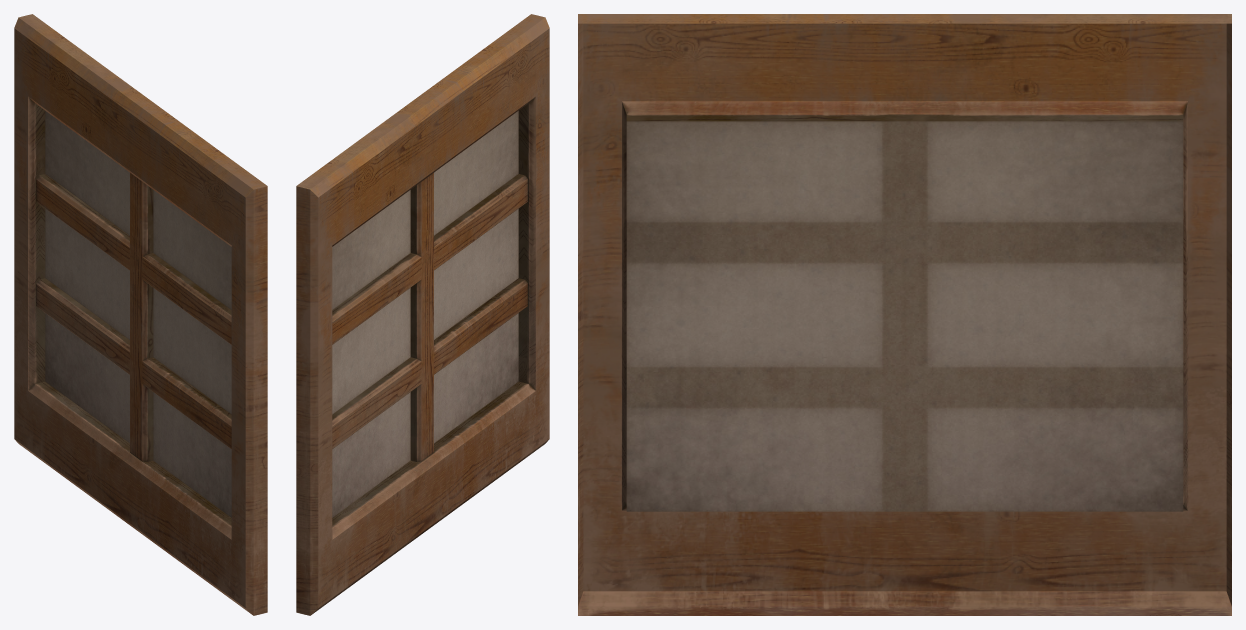
File: SM_Window2.glb
The picture shows the model from 3 angles, left to right: view 1: azimuth 30°, elevation 25°; view 2: azimuth 150°, elevation 25°; view 3: azimuth 270°, elevation 25°; orthographic projection. The views are drawn at different scales.
Parts seen in each view (by area): view 1: SM_Window2; view 2: SM_Window2; view 3: SM_Window2.
Boxes of the visible parts, x1,y1,x2,y2 form: SM_Window2: (14, 14, 267, 615); SM_Window2: (296, 14, 549, 615); SM_Window2: (578, 14, 1231, 615).
Size of the model in its own units: 0.0498 by 1 by 1.
Materials: 1 (1 with a texture image).
